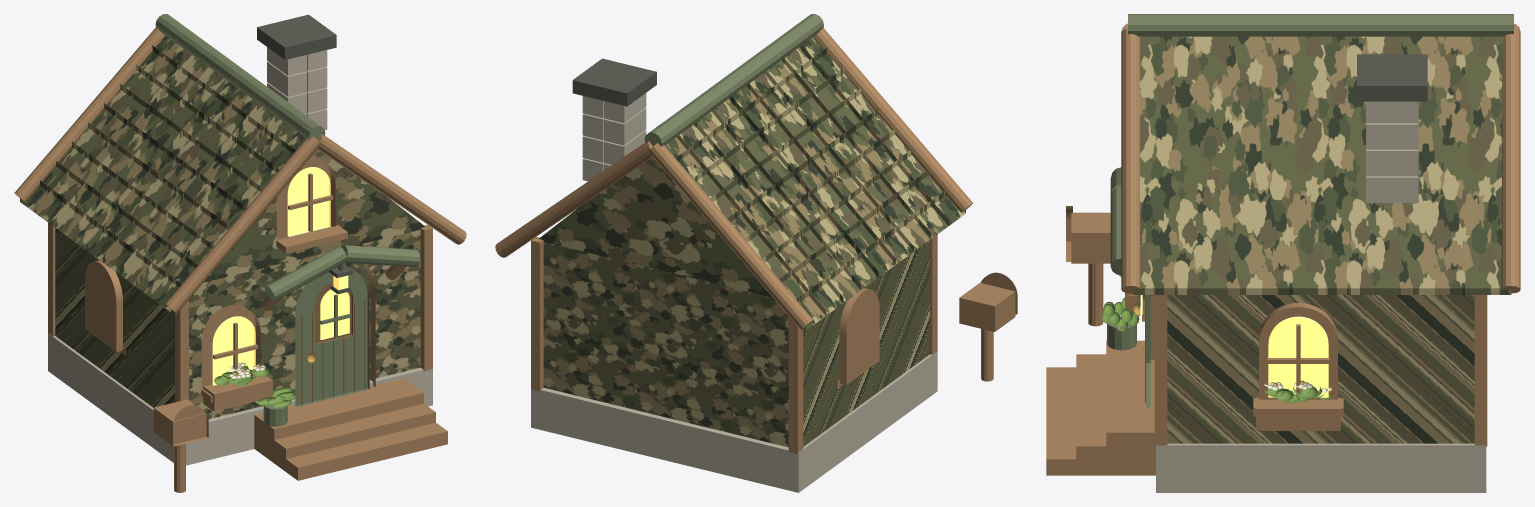
The model's file is aero_house.glb.
The picture shows the model from 3 angles, left to right: view 1: azimuth 30°, elevation 25°; view 2: azimuth 150°, elevation 25°; view 3: azimuth 270°, elevation 25°; orthographic projection. The views are drawn at different scales.
Visible parts, largest first — view 1: Static house 10|NORMAL,POSITION,TEXCOORD_0, Static house 0|NORMAL,POSITION,TEXCOORD_0, Static house 0|NORMAL,POSITION, Static house 3|NORMAL,POSITION,TEXCOORD_0, Static house 2|NORMAL,POSITION, Olive arched door, Static house 6|NORMAL,POSITION, Static house 4|NORMAL,POSITION,TEXCOORD_0, Door window glass, Static house 7|NORMAL,POSITION, Door window frame; view 2: Static house 10|NORMAL,POSITION,TEXCOORD_0, Static house 3|NORMAL,POSITION,TEXCOORD_0, Static house 0|NORMAL,POSITION, Static house 0|NORMAL,POSITION,TEXCOORD_0, Static house 2|NORMAL,POSITION, Static house 4|NORMAL,POSITION,TEXCOORD_0; view 3: Static house 10|NORMAL,POSITION,TEXCOORD_0, Static house 0|NORMAL,POSITION,TEXCOORD_0, Static house 3|NORMAL,POSITION,TEXCOORD_0, Static house 0|NORMAL,POSITION, Static house 2|NORMAL,POSITION, Static house 6|NORMAL,POSITION, Static house 4|NORMAL,POSITION,TEXCOORD_0, Static house 7|NORMAL,POSITION, Olive arched door.
Part boxes in pixels (bbox=[...]): Static house 10|NORMAL,POSITION,TEXCOORD_0: bbox=[20, 35, 425, 419]; Static house 0|NORMAL,POSITION,TEXCOORD_0: bbox=[48, 173, 447, 480]; Static house 0|NORMAL,POSITION: bbox=[14, 27, 466, 492]; Static house 3|NORMAL,POSITION,TEXCOORD_0: bbox=[48, 47, 432, 465]; Static house 2|NORMAL,POSITION: bbox=[155, 14, 420, 426]; Olive arched door: bbox=[295, 268, 369, 406]; Static house 6|NORMAL,POSITION: bbox=[212, 167, 330, 385]; Static house 4|NORMAL,POSITION,TEXCOORD_0: bbox=[257, 14, 352, 294]; Door window glass: bbox=[320, 289, 349, 339]; Static house 7|NORMAL,POSITION: bbox=[214, 365, 296, 407]; Door window frame: bbox=[315, 282, 352, 344]; Static house 10|NORMAL,POSITION,TEXCOORD_0: bbox=[539, 37, 965, 447]; Static house 3|NORMAL,POSITION,TEXCOORD_0: bbox=[531, 93, 937, 492]; Static house 0|NORMAL,POSITION: bbox=[495, 28, 1017, 384]; Static house 0|NORMAL,POSITION,TEXCOORD_0: bbox=[531, 234, 1015, 454]; Static house 2|NORMAL,POSITION: bbox=[644, 14, 823, 146]; Static house 4|NORMAL,POSITION,TEXCOORD_0: bbox=[572, 58, 656, 106]; Static house 10|NORMAL,POSITION,TEXCOORD_0: bbox=[1133, 36, 1511, 443]; Static house 0|NORMAL,POSITION,TEXCOORD_0: bbox=[1046, 212, 1487, 475]; Static house 3|NORMAL,POSITION,TEXCOORD_0: bbox=[1156, 101, 1486, 492]; Static house 0|NORMAL,POSITION: bbox=[1066, 23, 1520, 413]; Static house 2|NORMAL,POSITION: bbox=[1107, 14, 1513, 350]; Static house 6|NORMAL,POSITION: bbox=[1268, 316, 1328, 397]; Static house 4|NORMAL,POSITION,TEXCOORD_0: bbox=[1357, 54, 1427, 101]; Static house 7|NORMAL,POSITION: bbox=[1102, 275, 1333, 402]; Olive arched door: bbox=[1146, 295, 1150, 407].
Bounding box in the file's own units: 6.16 × 5.88 × 6.32.
10 materials, 1 textured.
